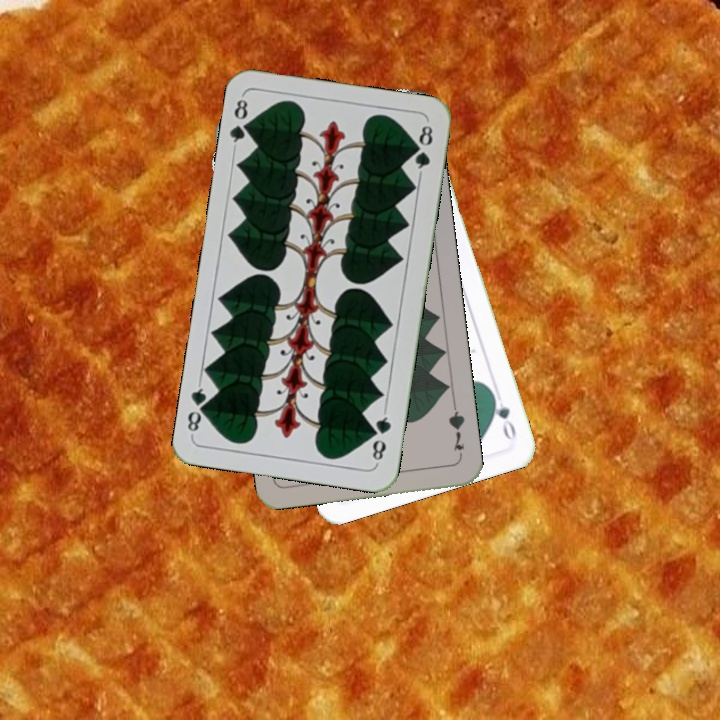G7: (444, 401, 467, 461)
G8: (225, 92, 255, 151), (368, 407, 394, 466)
GO: (487, 388, 519, 443)
